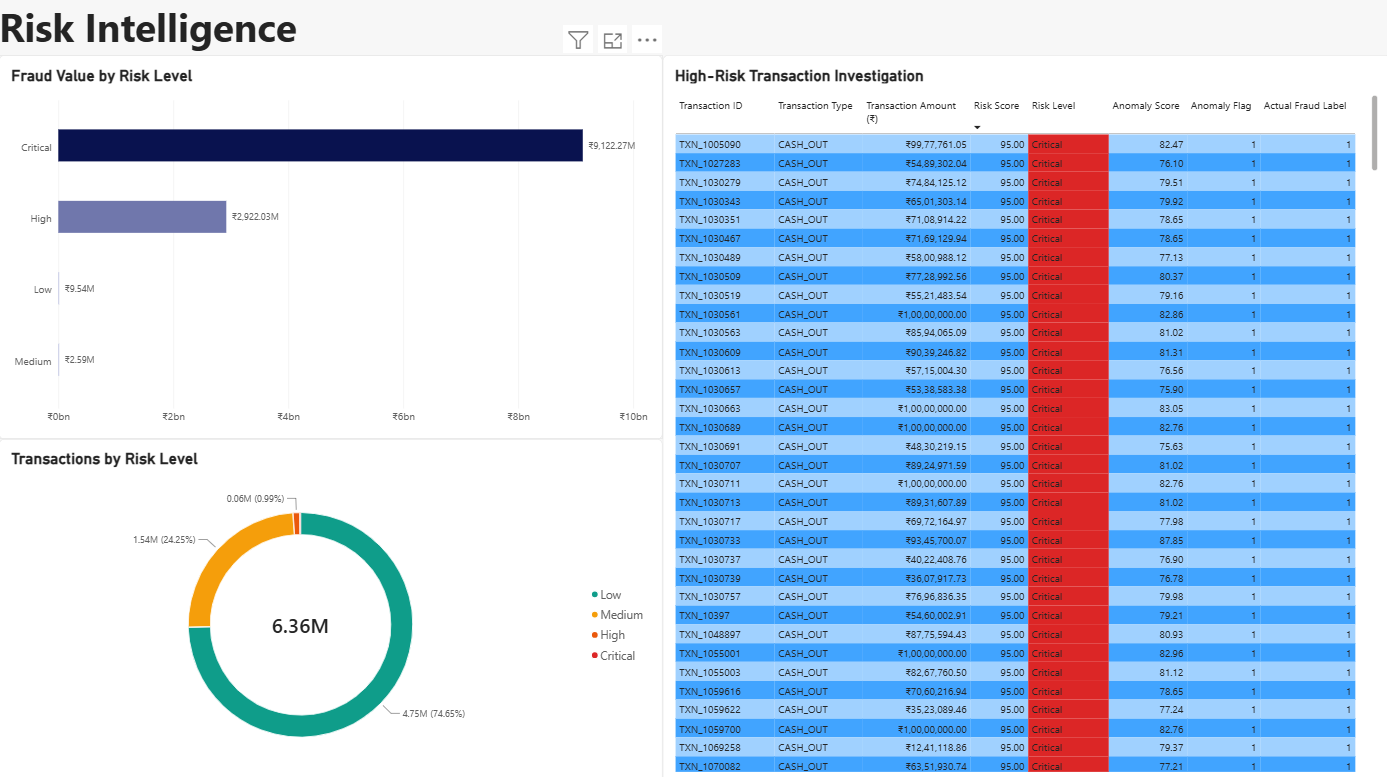

The page's visual inventory and layout, read from the dashboard file:
{"tool":"powerbi","page":{"name":"Risk Intelligence","canvas":[1920,1080],"ordinal":2},"visuals":[{"type":"textbox","box":[0,0,1918.8,75],"z":0},{"type":"donutChart","title":"Transactions by Risk Level","fields":{"Category":["public vw_fraud_by_risk_level.final_risk_level"],"Y":["Sum(public vw_fraud_by_risk_level.total_transactions)"]},"box":[0,605.8,915.4,475],"z":1000},{"type":"clusteredBarChart","title":"Fraud Value by Risk Level","fields":{"Category":["public vw_fraud_by_risk_level.final_risk_level"],"Y":["Sum(public vw_fraud_by_risk_level.fraud_value)"]},"box":[0,75,915.4,530.8],"z":2000},{"type":"tableEx","title":"High-Risk Transaction Investigation","fields":{"Values":["public vw_high_risk_investigation.transaction_id","public vw_high_risk_investigation.type","public vw_high_risk_investigation.amount","public vw_high_risk_investigation.final_risk_score","public vw_high_risk_investigation.final_risk_level","public vw_high_risk_investigation.anomaly_score","public vw_high_risk_investigation.is_anomaly","public vw_high_risk_investigation.isfraud"]},"box":[915.4,75,1003.8,1005.8],"z":3000}]}

Visuals, with their boxes in screenshot pixels (x1, y1, x2, y2), scaled from the page's 1920x1080 canvas onto the 1387x777 screenshot:
textbox: 0 0 1386 54
"Transactions by Risk Level" donutChart: 0 436 661 776
"Fraud Value by Risk Level" clusteredBarChart: 0 54 661 436
"High-Risk Transaction Investigation" tableEx: 661 54 1386 776
